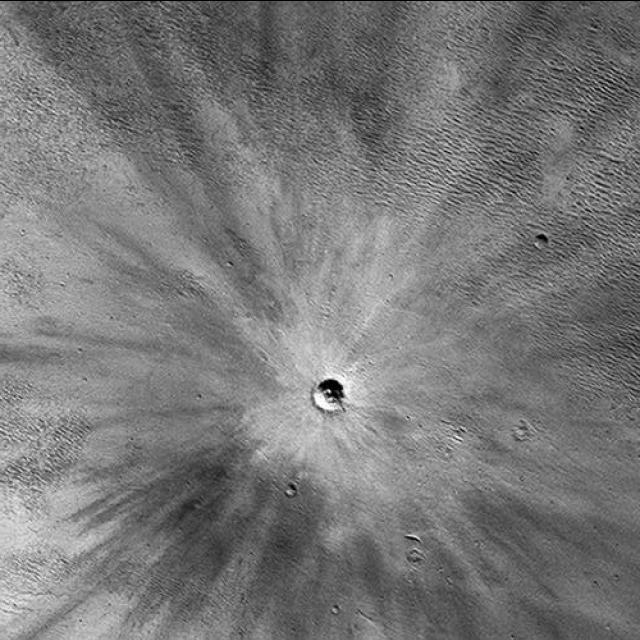crater: (297, 371, 361, 421), (497, 407, 542, 458), (526, 229, 562, 263), (325, 588, 348, 618), (278, 476, 302, 501)
